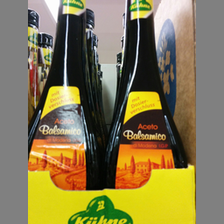vinegar: (106, 1, 193, 188), (32, 1, 99, 189)
